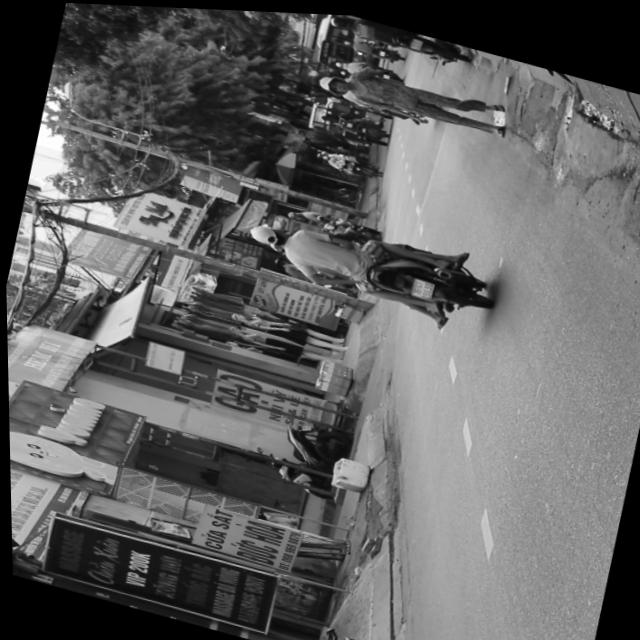licenseplate: (235, 192, 501, 334)
motorcyclist: (246, 218, 288, 249)
nohelmet: (407, 274, 431, 296)
